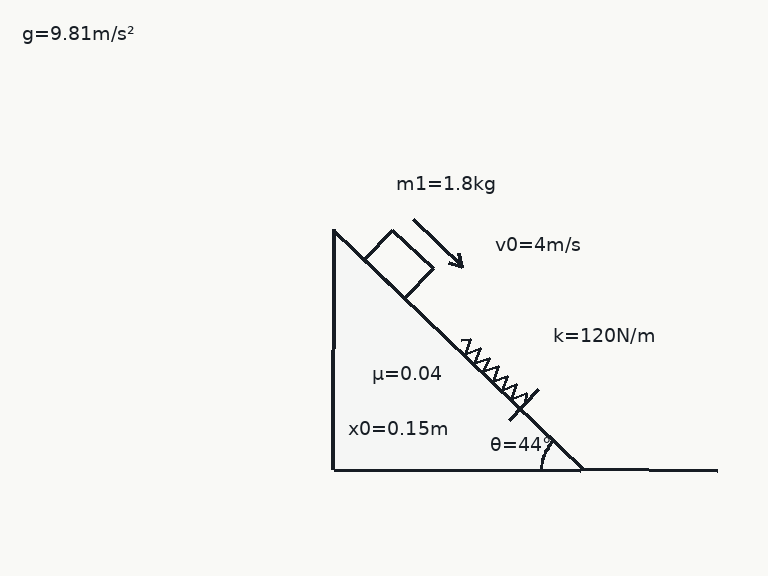block: (362, 228, 434, 300)
ramp: (331, 227, 583, 471)
spring: (459, 338, 527, 405)
